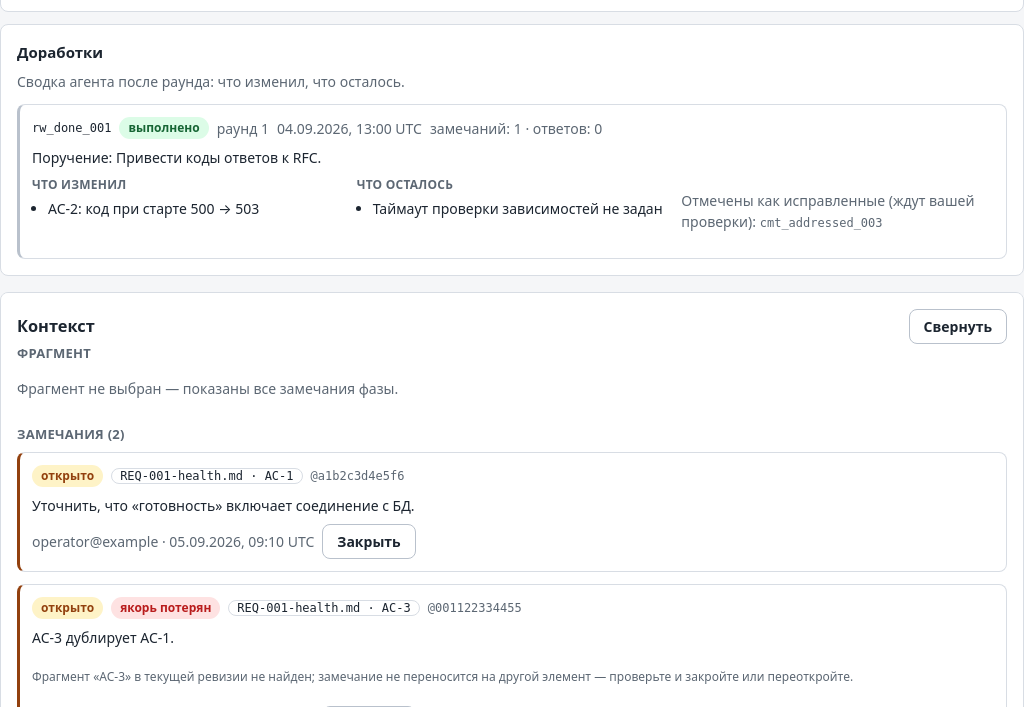
Test case: ChangeSetPage (T088, ADR-037 p.4) › collapses the context panel and switches the tabs
This screenshot has width=1024, height=707.
(page scrolled)
What coordinates should you click on to do the following:
click the button with test id "context-toggle"
I would click on:
 (958, 326)
Its box is x1=909 y1=309 x2=1007 y2=344.
(page scrolled)
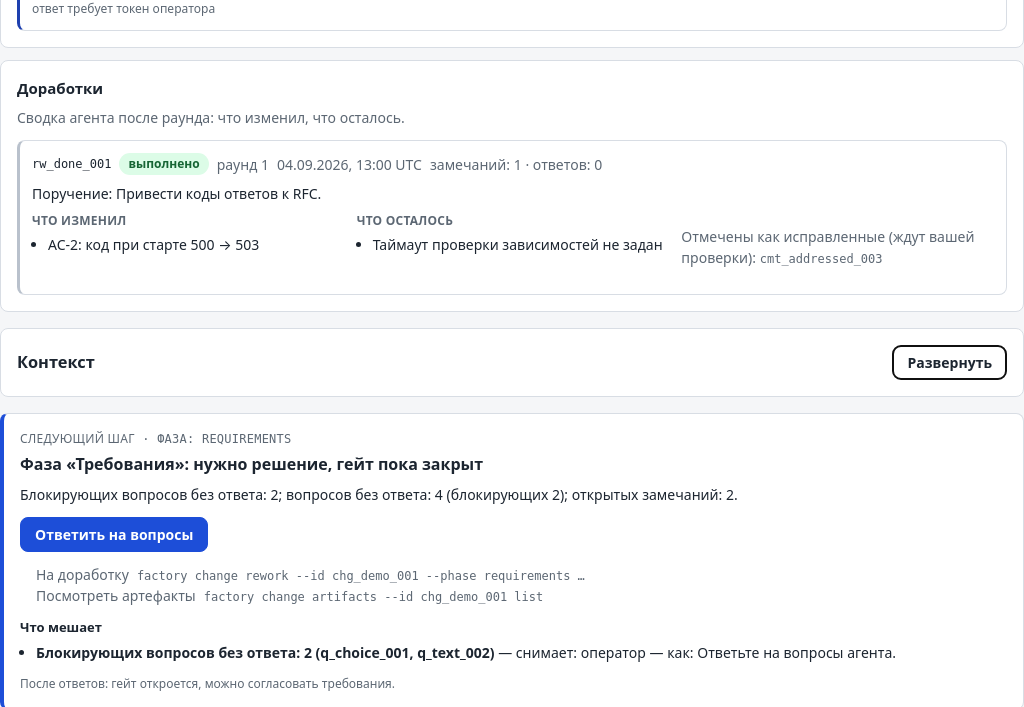
What coordinates should you click on to do the following:
click the button with test id "context-toggle"
I would click on:
 (950, 362)
Its box is x1=892 y1=345 x2=1007 y2=380.
(page scrolled)
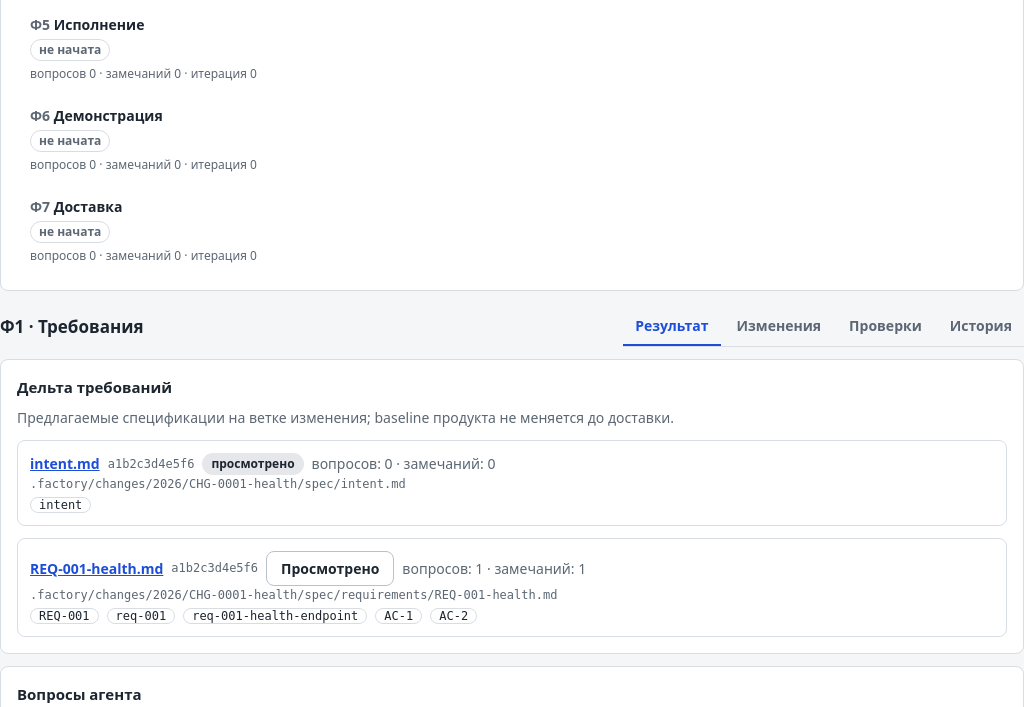
What coordinates should you click on to do the following:
click the tab with test id "tab-checks"
I would click on:
 (885, 326)
Its box is x1=837 y1=307 x2=934 y2=346.
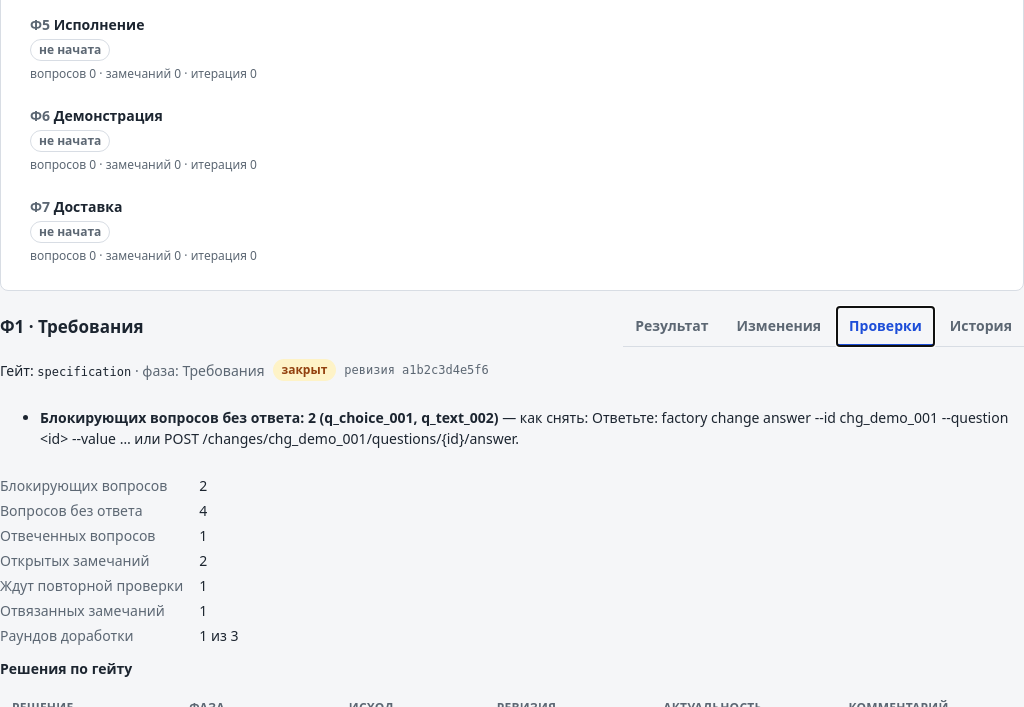
Expected: the element with test id "phase-gate" shows "закрыт", x1=282 y1=361 x2=327 y2=378
Expected: the element with test id "phase-gate-counts" shows "1 из 3", x1=0 y1=476 x2=238 y2=645
What coordinates should you click on to do the following:
click the tab with test id "tab-changes"
I would click on:
 (779, 326)
Its box is x1=724 y1=307 x2=833 y2=346.
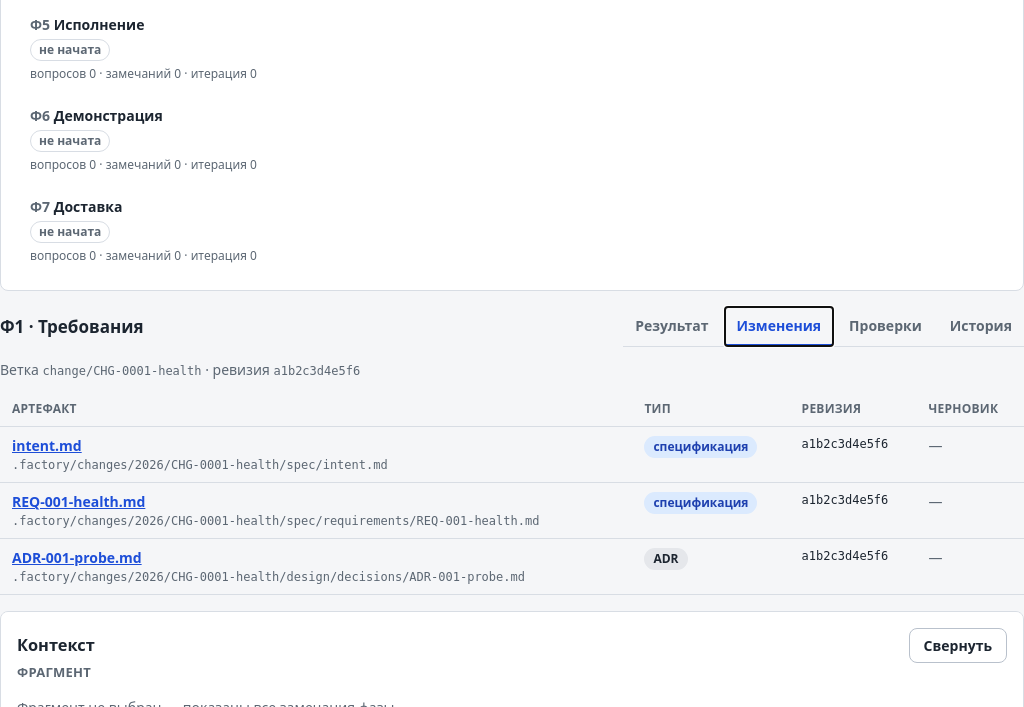
Expected: the table with test id "artifacts-table" shows "ADR-001-probe.md", x1=12 y1=547 x2=142 y2=568
What coordinates should you click on to do the following:
click the tab with test id "tab-history"
I would click on:
 (981, 326)
Its box is x1=938 y1=307 x2=1023 y2=346.
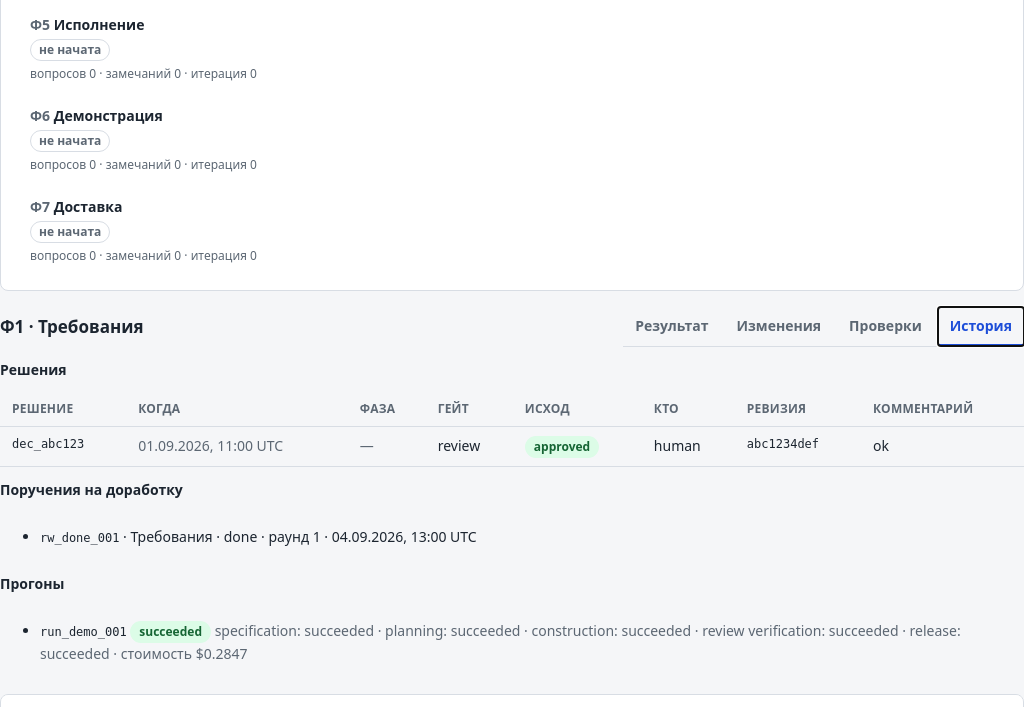
Expected: the table with test id "history-decisions" shows "dec_abc123", x1=12 y1=437 x2=84 y2=451
Expected: the element with test id "history-tab" shows "rw_done_001", x1=40 y1=531 x2=120 y2=545
